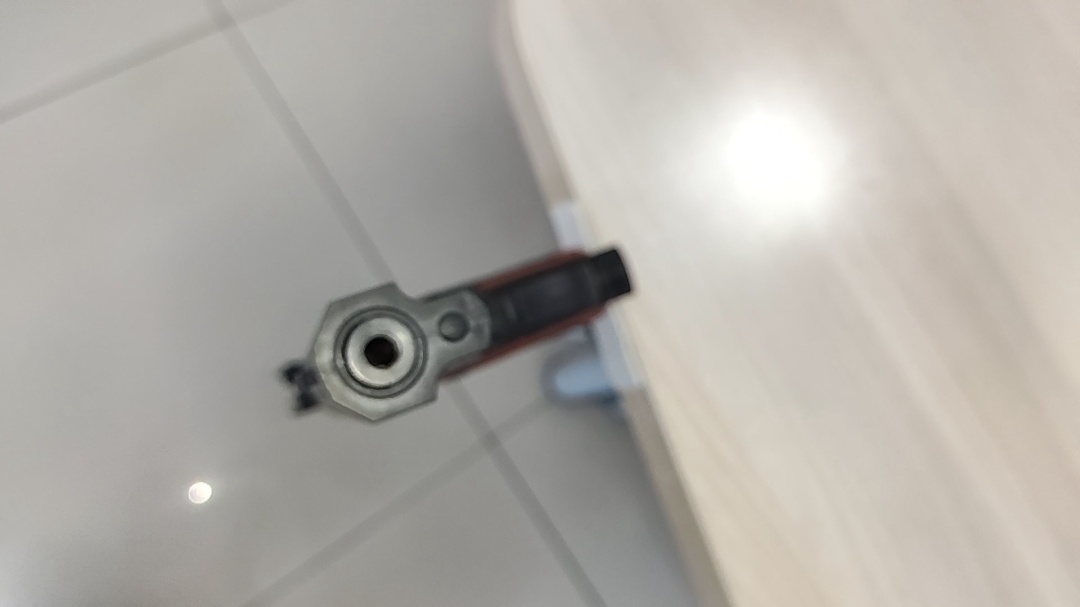gun: (279, 241, 636, 425)
